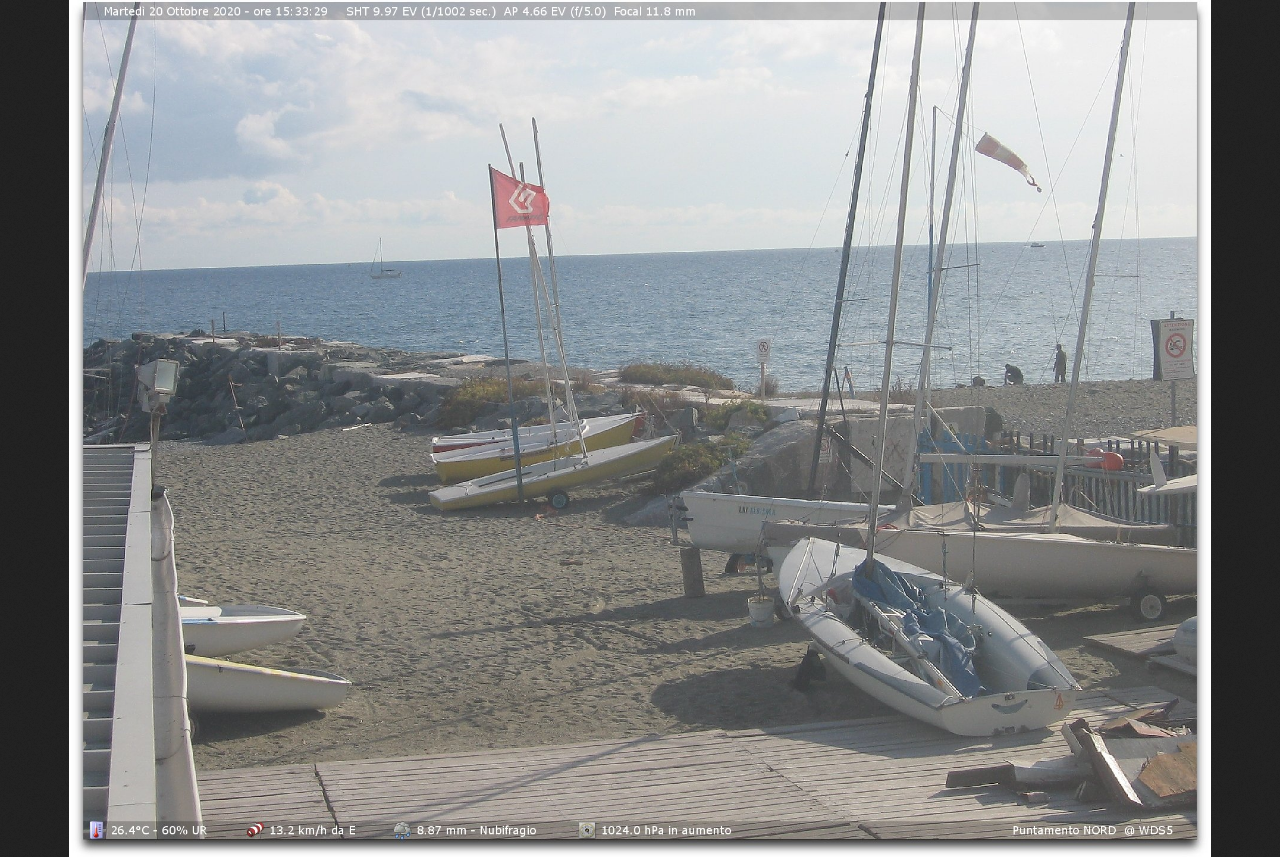yes: (488, 167, 552, 236)
